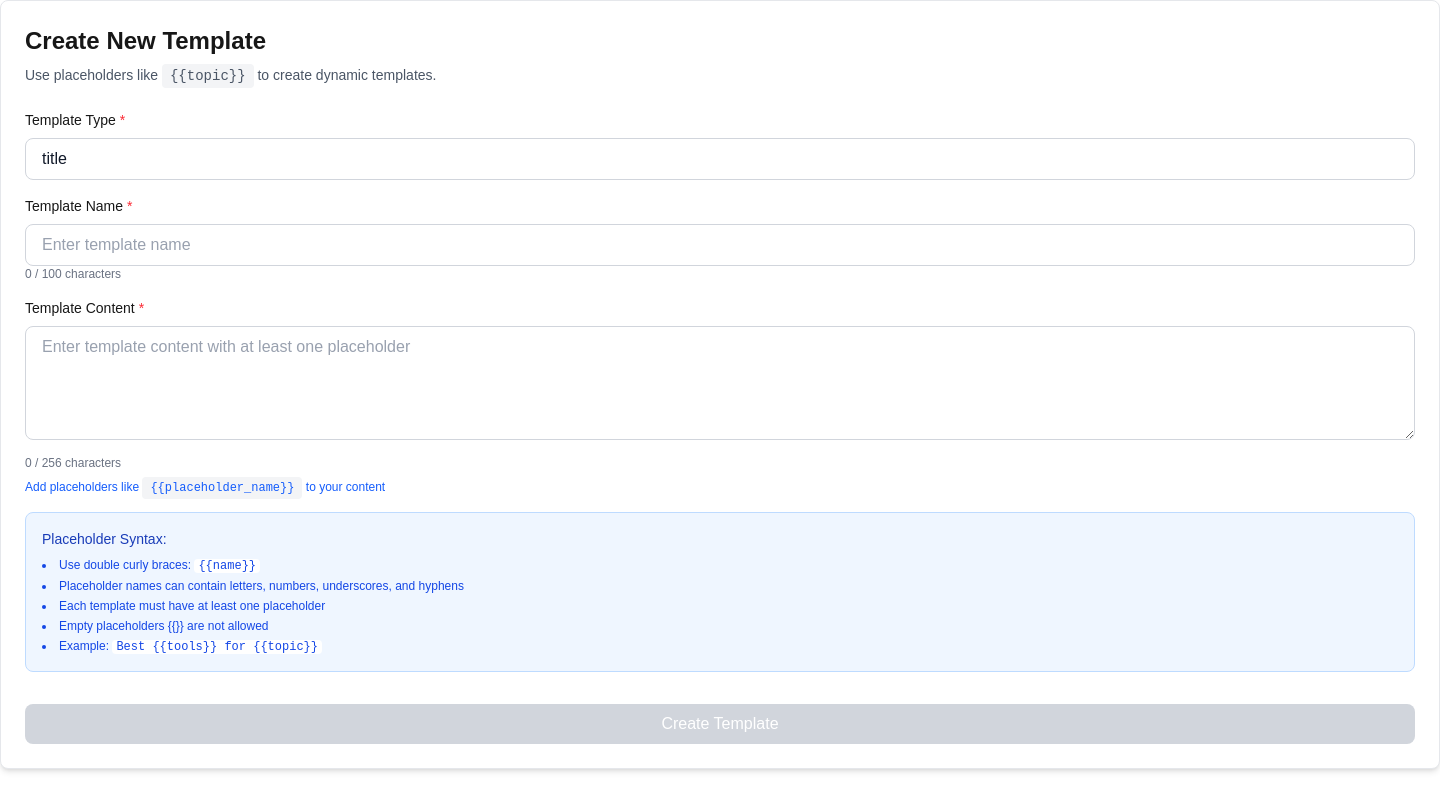
Test case: TemplateForm › Form Validation › should display character counter for name
In the field labelled "Template Name *": (720, 245) top-left (25, 224), bottom-right (1415, 266), type "Test"
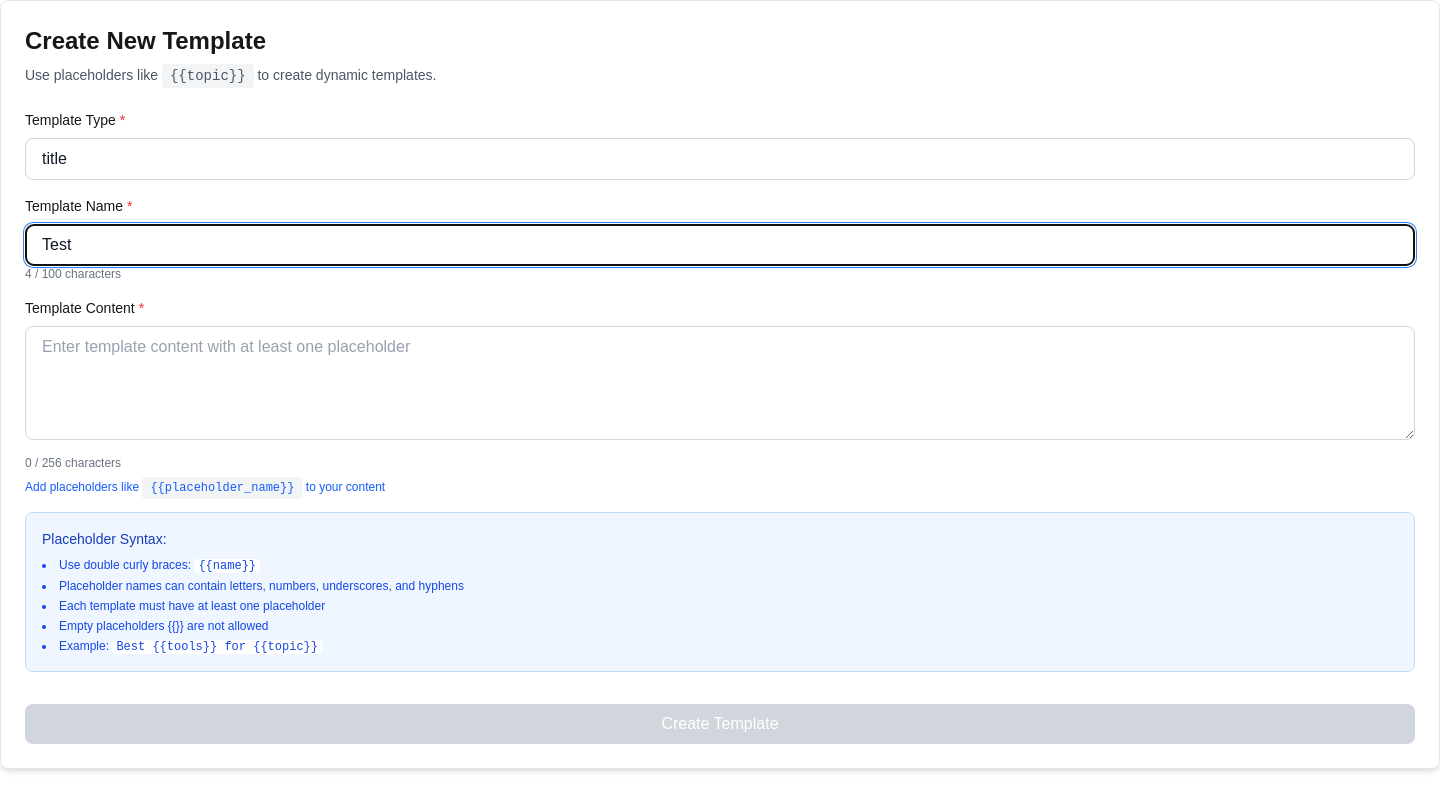
Check: the text "4 / 100 characters" is shown, box top-left (25, 267), bottom-right (121, 281)
